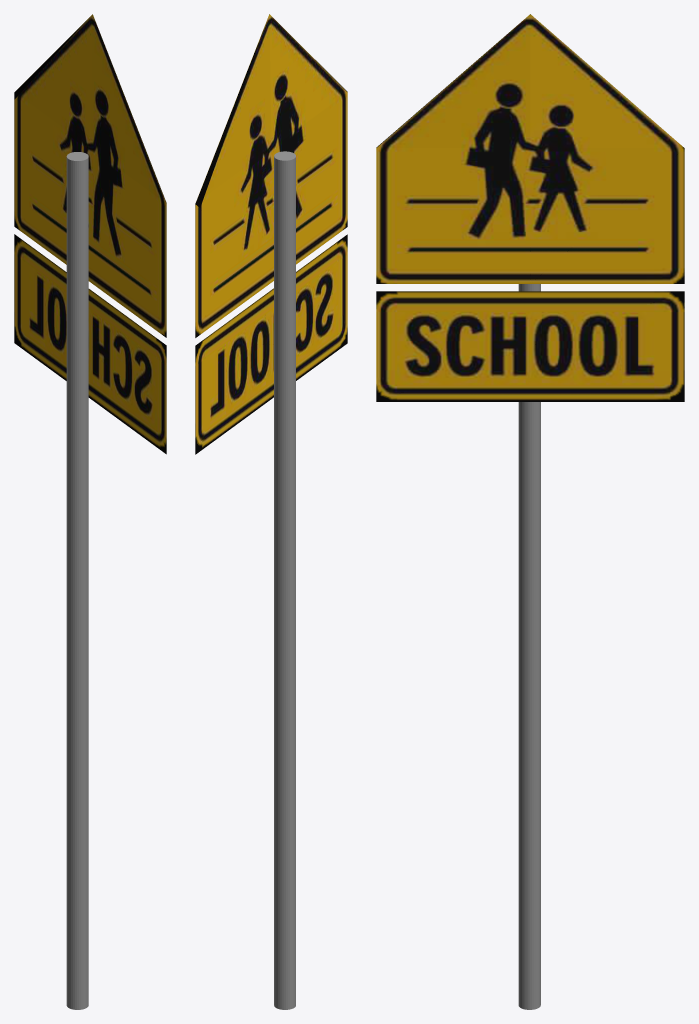
Rendered from walk.fbx.
3 views of the same model, side by side, from view 1: azimuth 30°, elevation 25°; view 2: azimuth 150°, elevation 25°; view 3: azimuth 270°, elevation 25° (orthographic).
Parts seen in each view (by area): view 1: 2, Cylinder; view 2: 2, Cylinder; view 3: 2, Cylinder.
Boxes of the visible parts, x1,y1,x2,y2 form: 2: (14, 14, 166, 454); Cylinder: (66, 152, 88, 1009); 2: (195, 14, 347, 454); Cylinder: (274, 151, 295, 1009); 2: (376, 14, 684, 401); Cylinder: (518, 284, 540, 1009).
Size of the model in its own units: 6.03 by 228 by 63.91.
